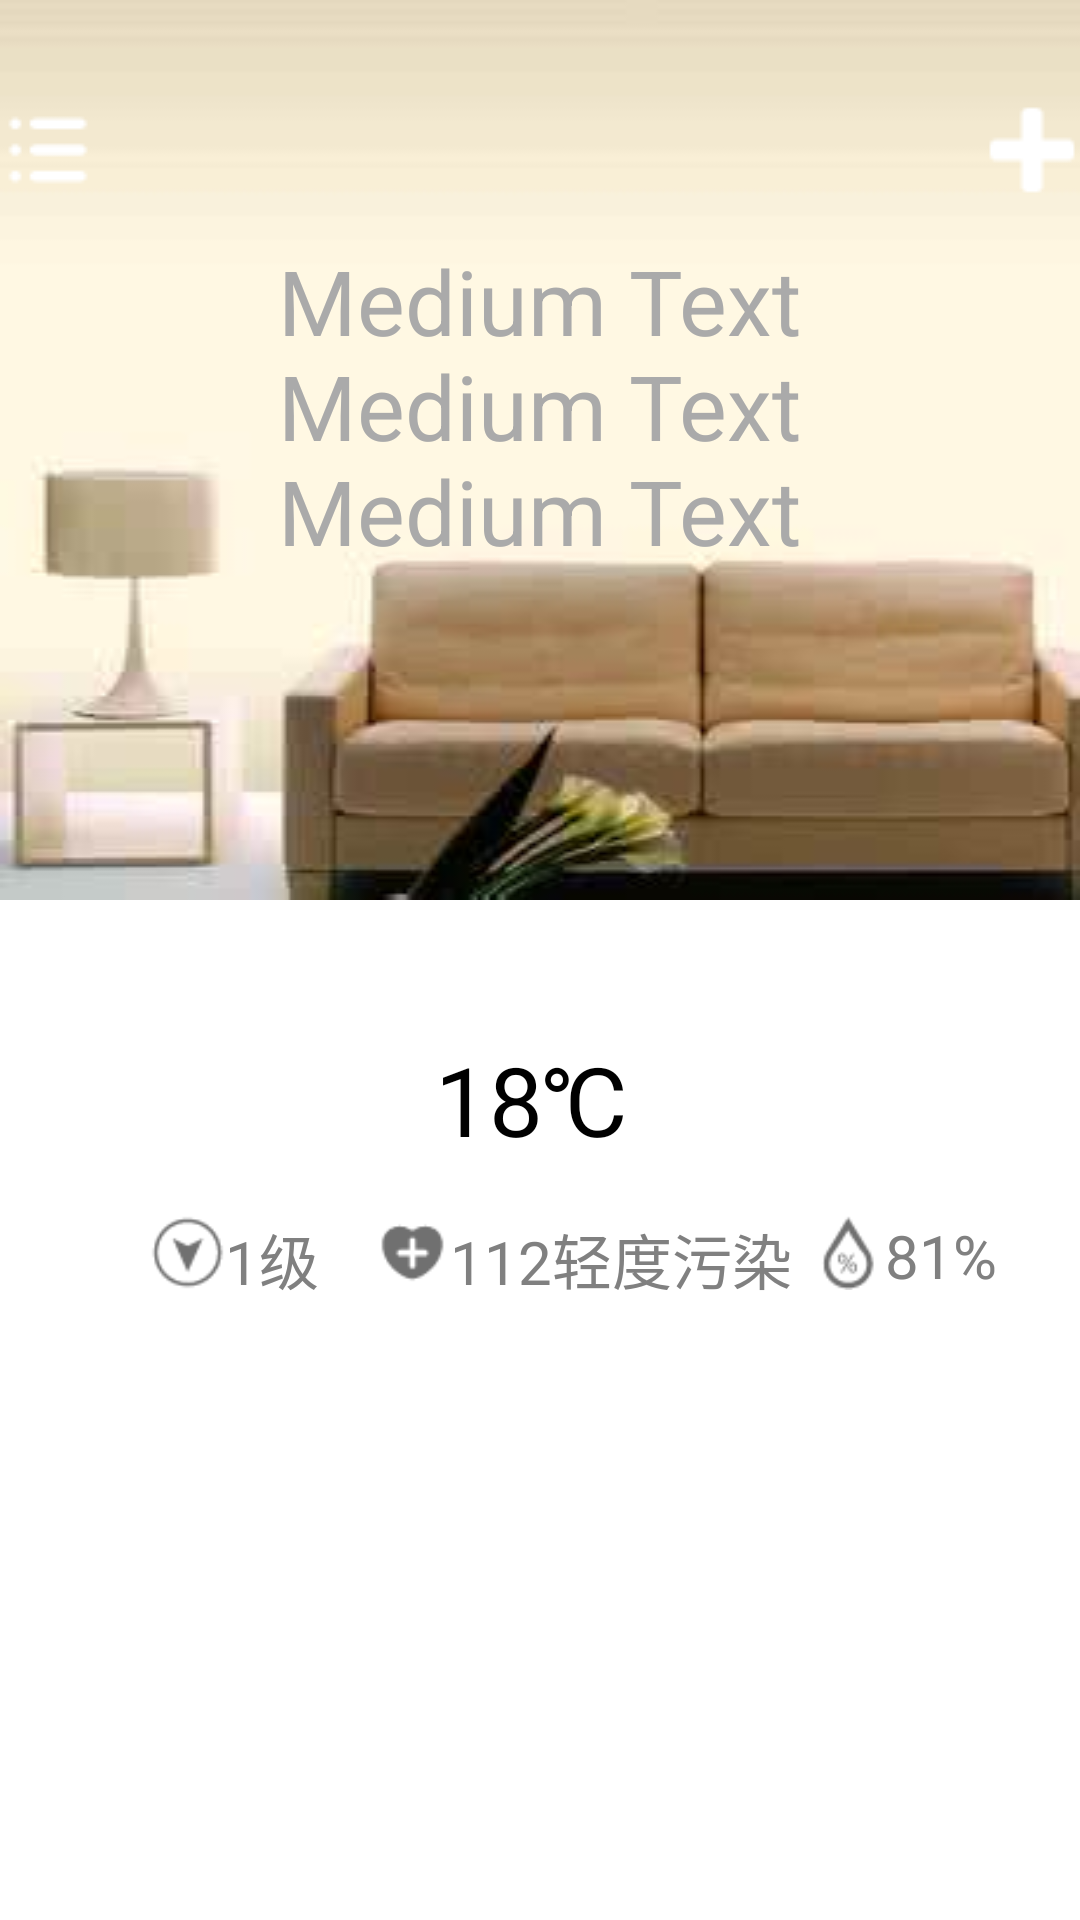

Named icons in this screenshot (1080x1920) and their bounding boxes, (x1, y1, x2, y2):
health: (381, 1225, 444, 1280)
water: (823, 1217, 874, 1290)
wind: (153, 1218, 223, 1288)
